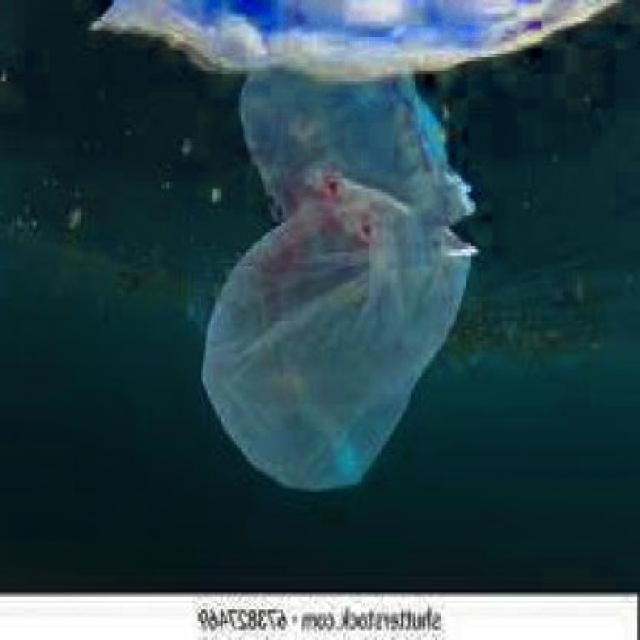pbag: (198, 175, 478, 496)
